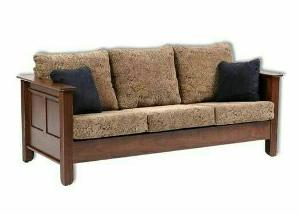Carving Chair: (22, 44, 282, 175)
